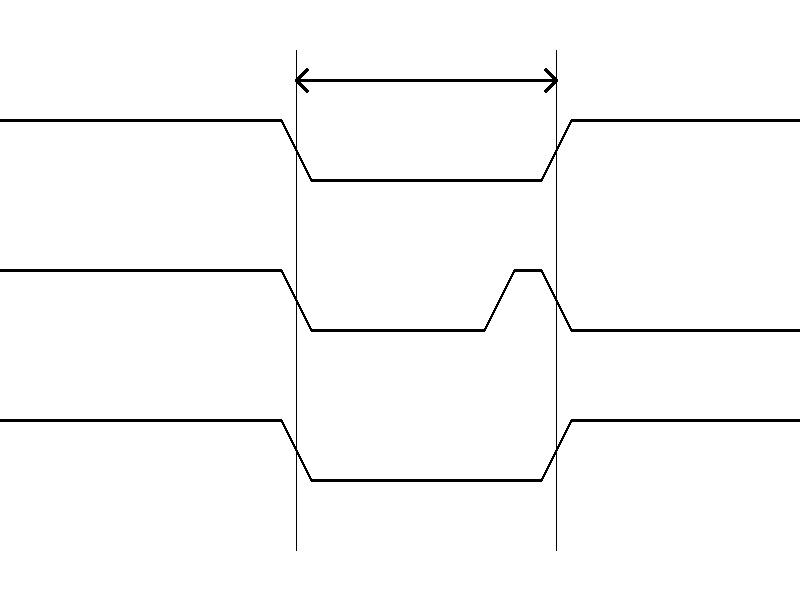double_arrow: (296, 65, 556, 95)
